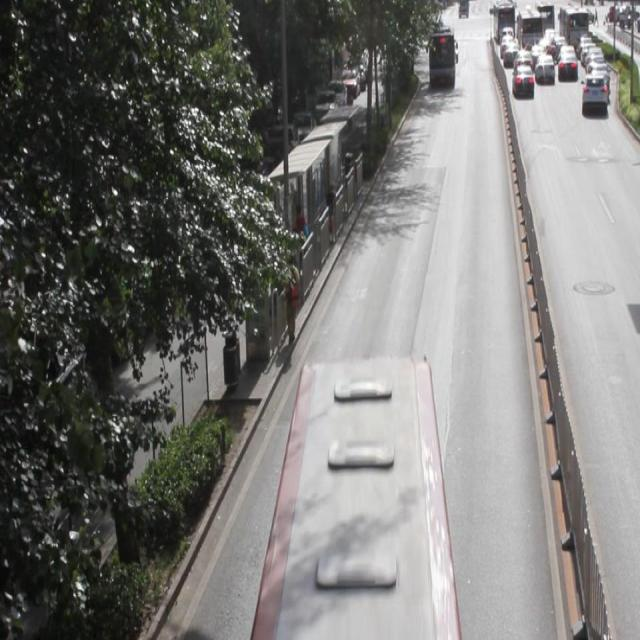van: (255, 354, 459, 640)
